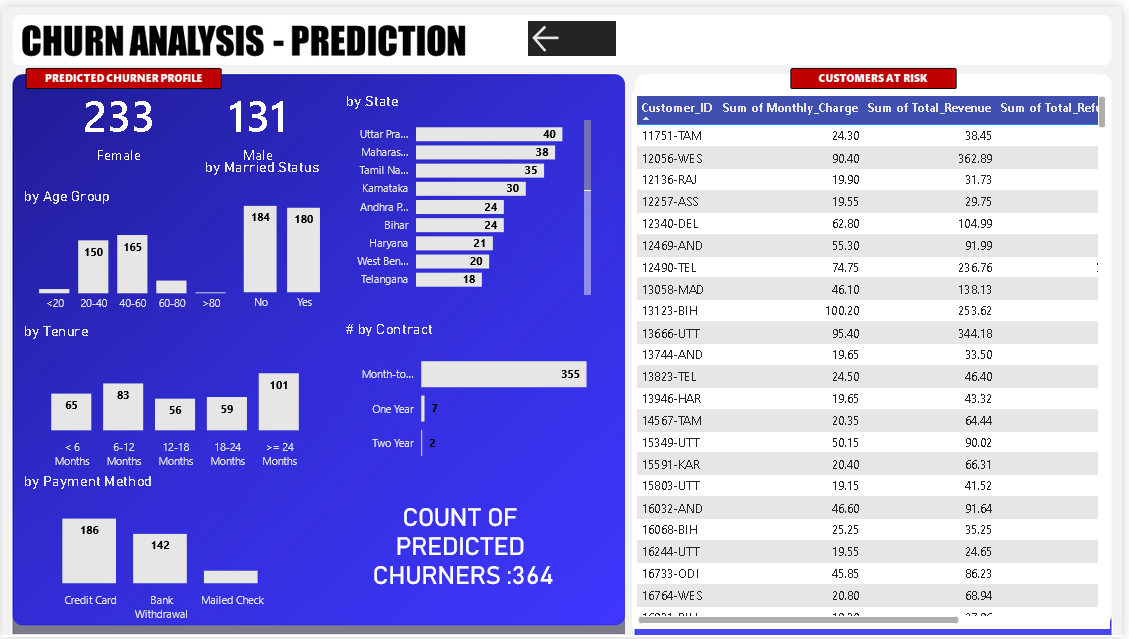

The page's visual inventory and layout, read from the dashboard file:
{"tool":"powerbi","page":{"name":"Prediction","canvas":[1280,720],"ordinal":2},"visuals":[{"type":"tableEx","fields":{"Values":["Predictions.Customer_ID","Sum(Predictions.Monthly_Charge)","Sum(Predictions.Total_Revenue)","Sum(Predictions.Total_Refunds)","Sum(Predictions.Number_of_Referrals)"]},"box":[720,96.7,546.7,613.3],"z":0},{"type":"card","fields":{"Values":["tbl_Measure.Title Predicted Churner"]},"box":[388.3,531.7,278.3,165],"z":1000},{"type":"cardVisual","fields":{"Data":["tbl_Measure.Count Predict Churner"]},"box":[20,71.7,228.3,125],"z":2000},{"type":"cardVisual","fields":{"Data":["tbl_Measure.Count Predict Churner"]},"box":[196.7,71.7,191.7,125],"z":3000},{"type":"columnChart","title":"by Age Group","fields":{"Category":["mapping_AgeGrp.Age Group"],"Y":["CountNonNull(Predictions.Customer_ID)"]},"box":[20,205,260,151.7],"z":4000},{"type":"columnChart","title":"by Married Status","fields":{"Y":["CountNonNull(Predictions.Customer_ID)"],"Category":["Predictions.Married"]},"box":[226.7,173.3,188.3,183.3],"z":5000},{"type":"columnChart","title":"by Tenure","fields":{"Y":["CountNonNull(Predictions.Customer_ID)"],"Category":["mapping_TenureGrp.Tenure Group "]},"box":[20,360,350,175],"z":6000},{"type":"columnChart","title":"by Payment Method","fields":{"Y":["CountNonNull(Predictions.Customer_ID)"],"Category":["Predictions.Payment_Method"]},"box":[20,531.7,313.3,178.3],"z":7000},{"type":"barChart","title":"# by Contract","fields":{"Category":["Predictions.Contract"],"Y":["CountNonNull(Predictions.Customer_ID)"]},"box":[388.3,356.7,313.3,178.3],"z":8000},{"type":"barChart","title":"by State","fields":{"Category":["Predictions.State"],"Y":["CountNonNull(Predictions.Customer_ID)"]},"box":[388.3,96.7,290,236.7],"z":9000},{"type":"actionButton","box":[601.7,15,100,40],"z":9001}]}

Visuals, with their boxes in screenshot pixels (x1, y1, x2, y2), scaled from the page's 1280x720 canvas onto the 1129x639 screenshot:
tableEx - Predictions.Customer_ID x Sum(Predictions.Monthly_Charge): (635, 86, 1117, 630)
card - tbl_Measure.Title Predicted Churner: (342, 472, 588, 618)
cardVisual - tbl_Measure.Count Predict Churner: (18, 64, 219, 175)
cardVisual - tbl_Measure.Count Predict Churner: (173, 64, 343, 175)
"by Age Group" columnChart: (18, 182, 247, 317)
"by Married Status" columnChart: (200, 154, 366, 316)
"by Tenure" columnChart: (18, 320, 326, 475)
"by Payment Method" columnChart: (18, 472, 294, 630)
"# by Contract" barChart: (342, 317, 619, 475)
"by State" barChart: (342, 86, 598, 296)
actionButton: (531, 13, 619, 49)
